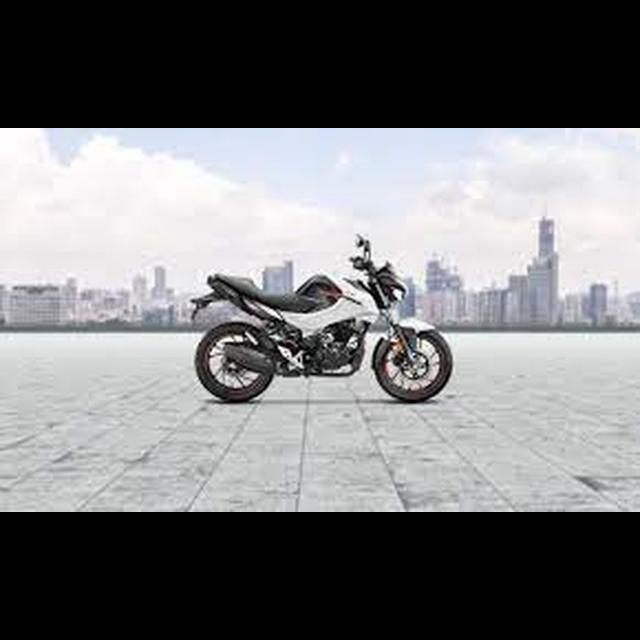motorcycle: (185, 225, 459, 408)
